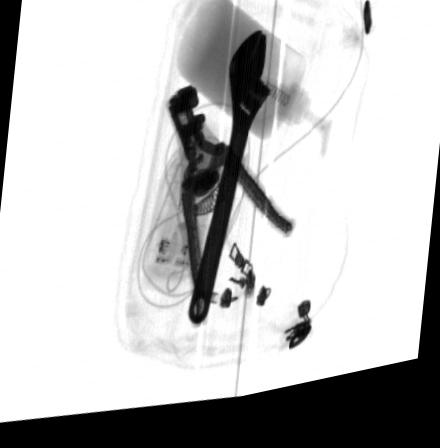Pliers: (167, 93, 293, 341)
Wrench: (186, 37, 272, 336)
